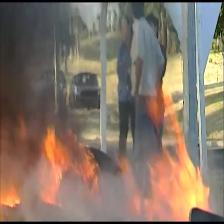fire: (118, 85, 218, 221), (0, 126, 102, 208), (208, 136, 208, 137)
